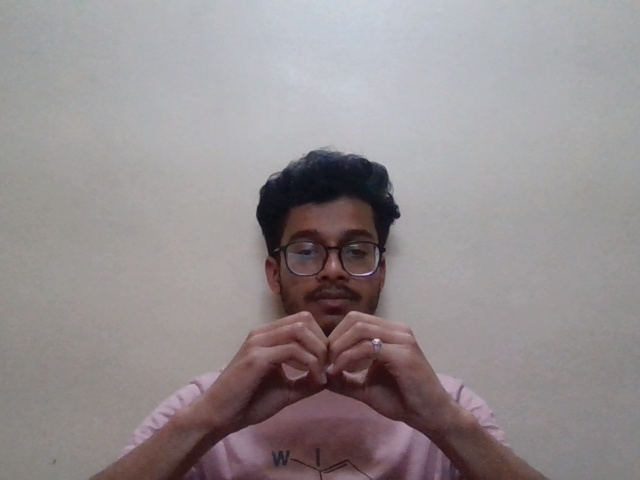see: (212, 310, 446, 431)
